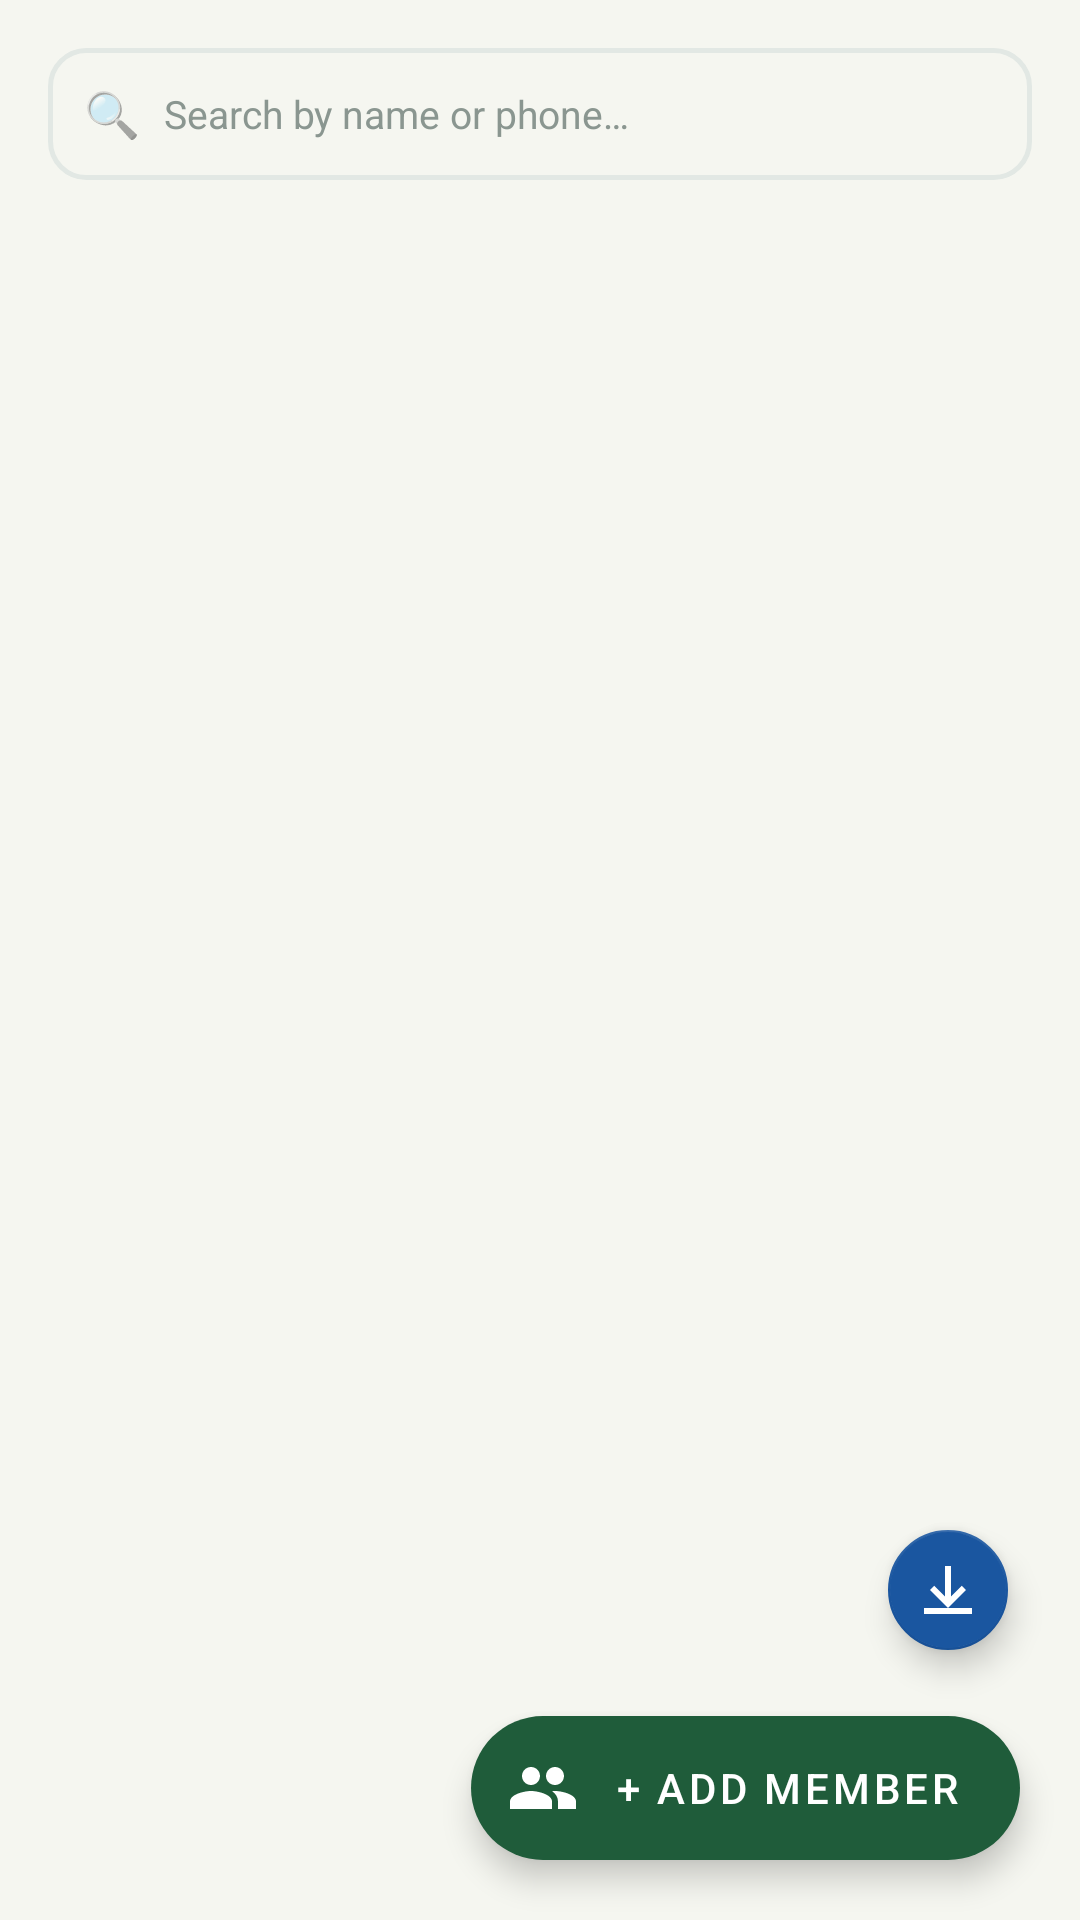

Locate icon controls on the screen. Image size 1080px×1920px, boxes as detection(x1, y1, x2, y2).
Import CSV: detection(888, 1530, 1011, 1662)
